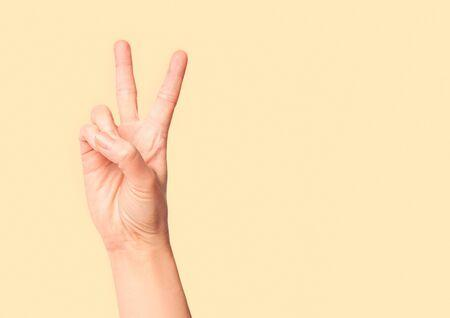peace_sign: (68, 28, 205, 250)
